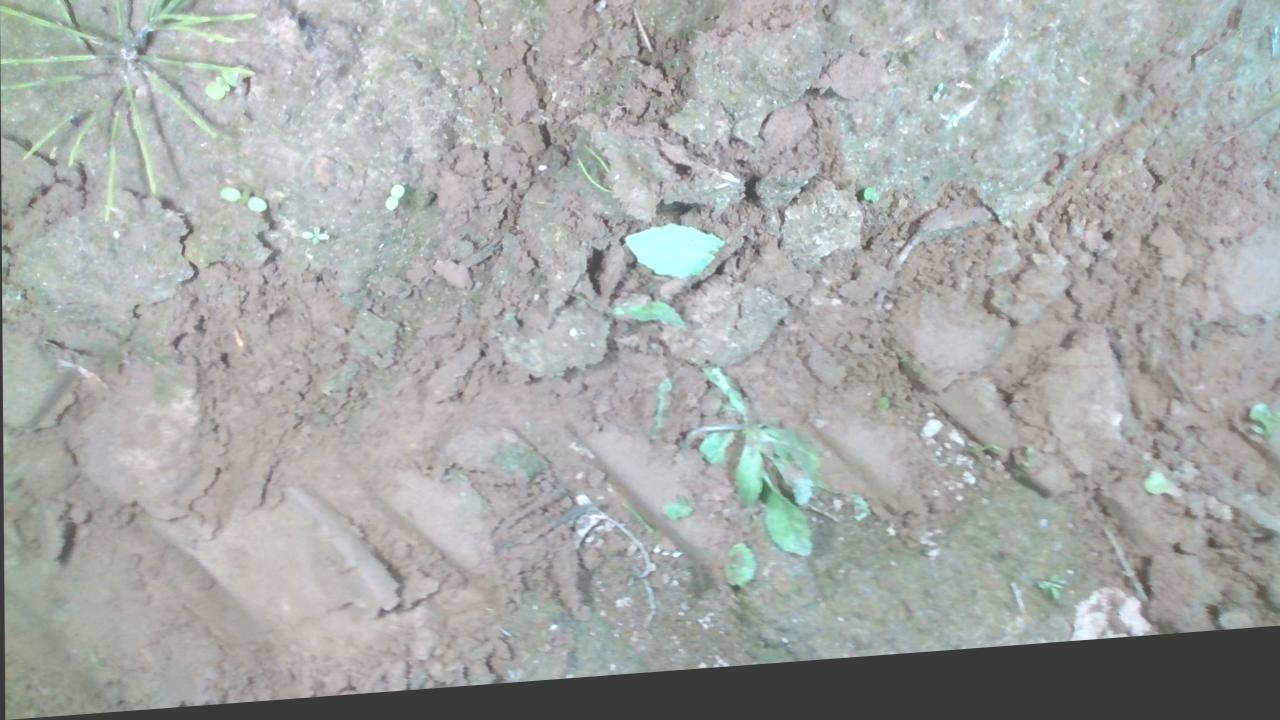weed: (360, 180, 409, 227), (212, 186, 270, 224), (289, 226, 327, 247)
